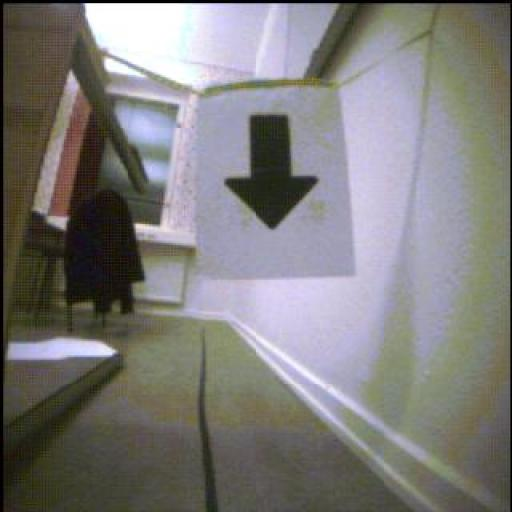Arrow: (227, 116, 320, 230)
